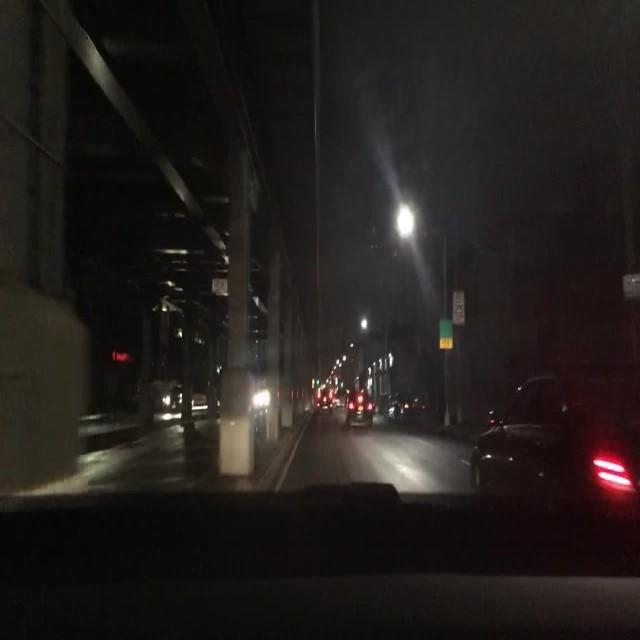normal: (335, 375, 456, 432)
